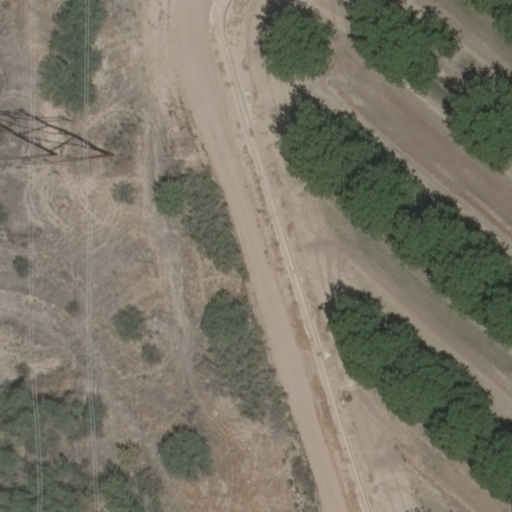TT: (1, 109, 109, 158)
